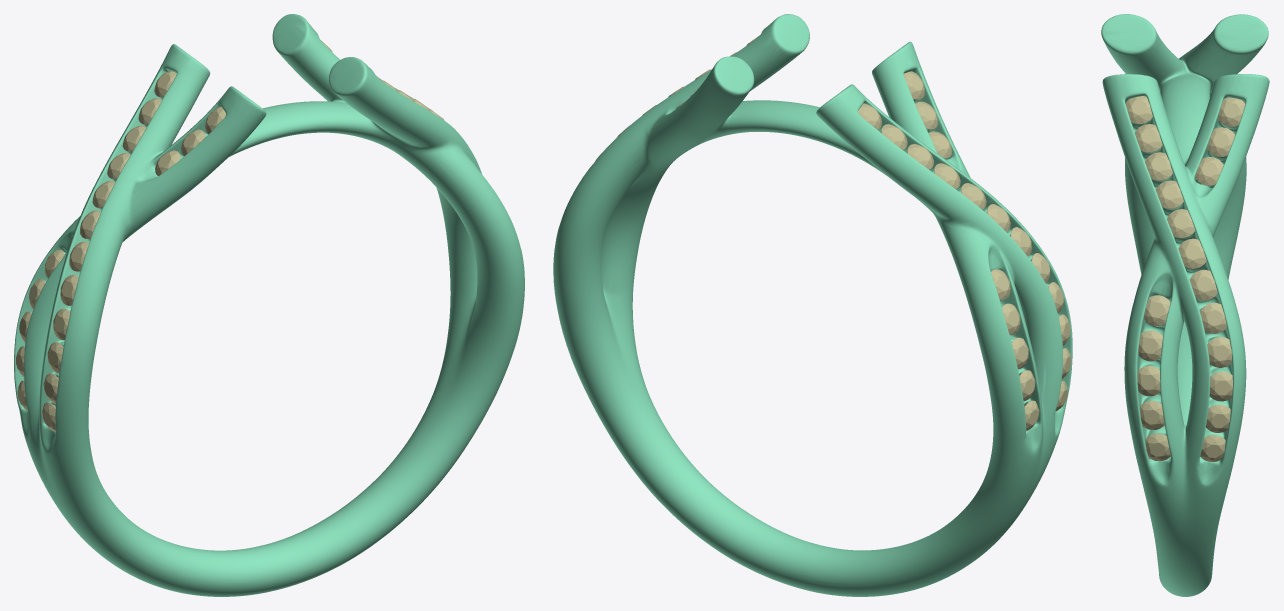
3 renders of one model, left to right at view 1: azimuth 30°, elevation 25°; view 2: azimuth 150°, elevation 25°; view 3: azimuth 270°, elevation 25°, orthographic.
Visible parts, largest first — view 1: Metal02; view 2: Metal02; view 3: Metal02, Diamond_Gem.020, Diamond_Gem.009, Diamond_Gem.010, Diamond_Gem.008, Diamond_Gem.021, Diamond_Gem.011, Diamond_Gem.019, Diamond_Gem.007, Diamond_Gem.003, Diamond_Gem.002, Diamond_Gem.012 (+9 smaller).
Part boxes in pixels (x1,y1,x2,y2): Metal02: [14, 14, 524, 596]; Metal02: [553, 14, 1072, 596]; Metal02: [1101, 14, 1269, 596]; Diamond_Gem.020: [1138, 330, 1162, 361]; Diamond_Gem.009: [1200, 302, 1226, 333]; Diamond_Gem.010: [1190, 270, 1217, 300]; Diamond_Gem.008: [1207, 337, 1231, 367]; Diamond_Gem.021: [1144, 295, 1170, 326]; Diamond_Gem.011: [1178, 238, 1206, 268]; Diamond_Gem.019: [1137, 366, 1160, 396]; Diamond_Gem.007: [1209, 371, 1232, 401]; Diamond_Gem.003: [1207, 127, 1235, 156]; Diamond_Gem.002: [1218, 97, 1245, 126]; Diamond_Gem.012: [1167, 209, 1195, 238].
Bounding box in the file's own units: 20.99 × 22.48 × 6.5.
